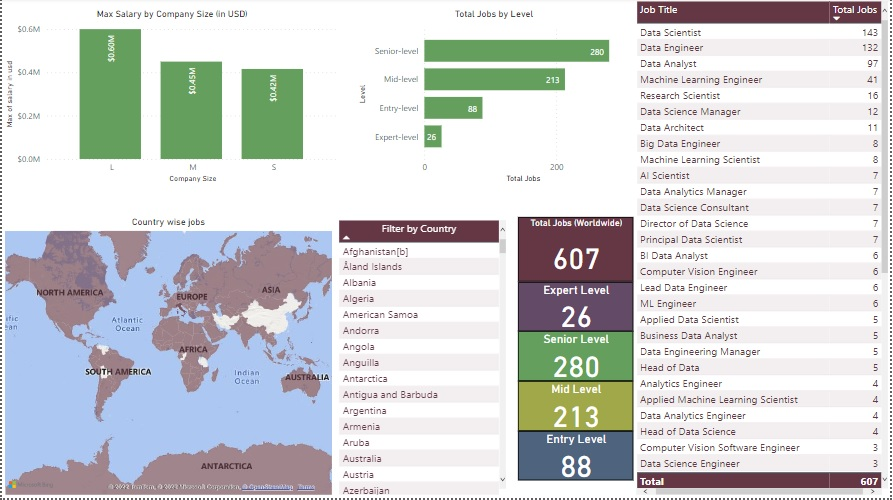

What the dashboard file says about the page in this screenshot:
{"tool":"powerbi","page":{"name":"Page 1","canvas":[1280,720],"ordinal":0},"visuals":[{"type":"tableEx","fields":{"Values":["ds_salaries.job_title","CountNonNull(ds_salaries.ID)"]},"box":[908.6,0,371.5,720],"z":0},{"type":"columnChart","title":"Max Salary by Company Size (in USD)","fields":{"Y":["Max(ds_salaries.salary_in_usd)"],"Category":["ds_salaries.company_size"]},"box":[0,15.8,489.6,254.9],"z":1000},{"type":"barChart","fields":{"Category":["ds_salaries.Exp_Level"],"Y":["CountNonNull(ds_salaries.job_title)"]},"box":[508.3,15.8,400.3,254.9],"z":2000},{"type":"filledMap","fields":{"Category":["Coutry_codes_web_data.English short name (using title case)"]},"box":[0,315.4,479.5,404.6],"z":3000},{"type":"tableEx","fields":{"Values":["Coutry_codes_web_data.English short name (using title case)"]},"box":[479.5,315.4,263.5,404.6],"z":4000},{"type":"card","title":"Total Jobs (Worldwide)","fields":{"Values":["CountNonNull(ds_salaries.job_title)"]},"box":[742.9,315.7,165.7,92.9],"z":5000},{"type":"card","title":"Senior Level","fields":{"Values":["ds_salaries.TotalExplevelsenior"]},"box":[743,479.5,165.6,72],"z":6000},{"type":"card","title":"Mid Level","fields":{"Values":["ds_salaries.TotalExplevelMID"]},"box":[743,551.5,165.6,72],"z":7000},{"type":"card","title":"Entry Level","fields":{"Values":["ds_salaries.TotalExplevelsentry"]},"box":[743,623.5,165.6,70.6],"z":8000},{"type":"card","title":"Expert Level","fields":{"Values":["ds_salaries.TotalExplevelexpert"]},"box":[742.9,408.6,165.7,71.4],"z":9000}]}

Visuals, with their boxes in screenshot pixels (x1, y1, x2, y2), scaled from the page's 1280x720 canvas onto the 893x500 screenshot:
tableEx - ds_salaries.job_title x CountNonNull(ds_salaries.ID): {"left": 634, "top": 0, "right": 892, "bottom": 499}
"Max Salary by Company Size (in USD)" columnChart: {"left": 0, "top": 11, "right": 342, "bottom": 188}
barChart - ds_salaries.Exp_Level x CountNonNull(ds_salaries.job_title): {"left": 355, "top": 11, "right": 634, "bottom": 188}
filledMap - Coutry_codes_web_data.English short name (using title case): {"left": 0, "top": 219, "right": 335, "bottom": 499}
tableEx - Coutry_codes_web_data.English short name (using title case): {"left": 335, "top": 219, "right": 518, "bottom": 499}
"Total Jobs (Worldwide)" card: {"left": 518, "top": 219, "right": 634, "bottom": 284}
"Senior Level" card: {"left": 518, "top": 333, "right": 634, "bottom": 383}
"Mid Level" card: {"left": 518, "top": 383, "right": 634, "bottom": 433}
"Entry Level" card: {"left": 518, "top": 433, "right": 634, "bottom": 482}
"Expert Level" card: {"left": 518, "top": 284, "right": 634, "bottom": 333}
